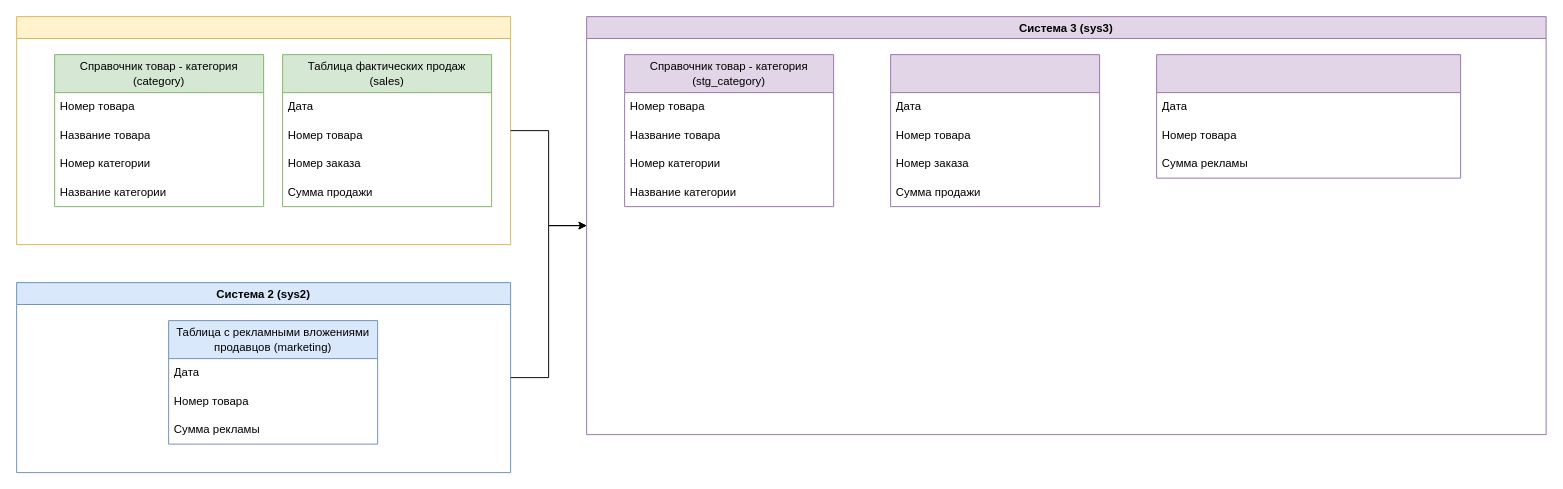
The diagram is 1563 pixels wide and 489 high, and some of its shapes have lost their labels. The box of each missing label's shape, as (x1, y1, x2, y2) in pixels:
Система 1 (sys1): (16, 16, 511, 245)
Таблица с рекламными вложениями продавцов (stg_ marketing): (1156, 54, 1461, 178)
Таблица фактических продаж (stg_sales): (890, 54, 1100, 207)
